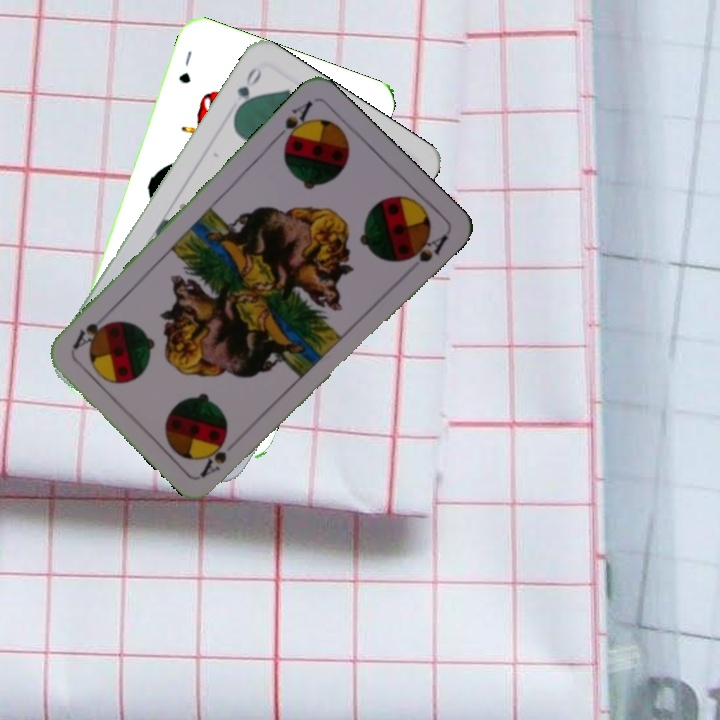GO: (230, 63, 265, 117)
GU: (174, 46, 195, 86)
SA: (269, 96, 316, 151), (196, 432, 244, 479)
